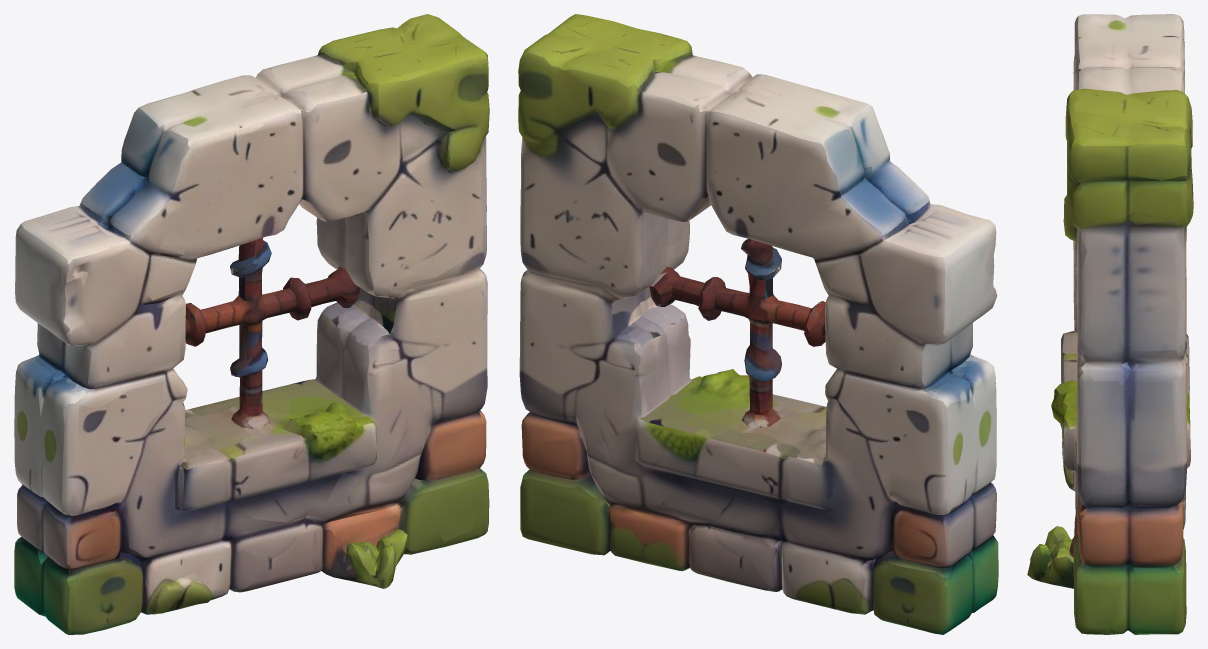
The model's file is ruin_wall.glb.
3 views of the same model, side by side, from view 1: azimuth 30°, elevation 25°; view 2: azimuth 150°, elevation 25°; view 3: azimuth 270°, elevation 25° (orthographic).
Parts seen in each view (by area): view 1: ruin_wall_s15; view 2: ruin_wall_s15; view 3: ruin_wall_s15.
Boxes of the visible parts, <box> form: ruin_wall_s15: <box>14,14,489,634</box>; ruin_wall_s15: <box>518,14,998,634</box>; ruin_wall_s15: <box>1027,14,1193,634</box>.
Bounding box in the file's own units: 0.9132 × 1 × 0.303.
Materials: 1 (1 with a texture image).
